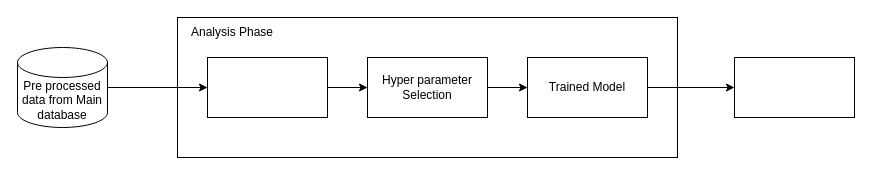
Some shapes in this 872 by 175 pixel diagram are drawn without their labels. The shapes that lost their labels are listed below. From the top down, each one's centre as x and y in pixels, then its label:
At pixel 267 87: "Feature Selection".
At pixel 794 87: "Data after Feature selection".
